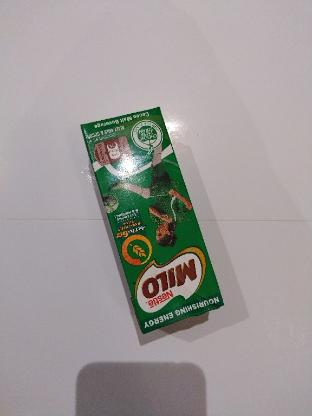Others: (81, 107, 223, 333)
